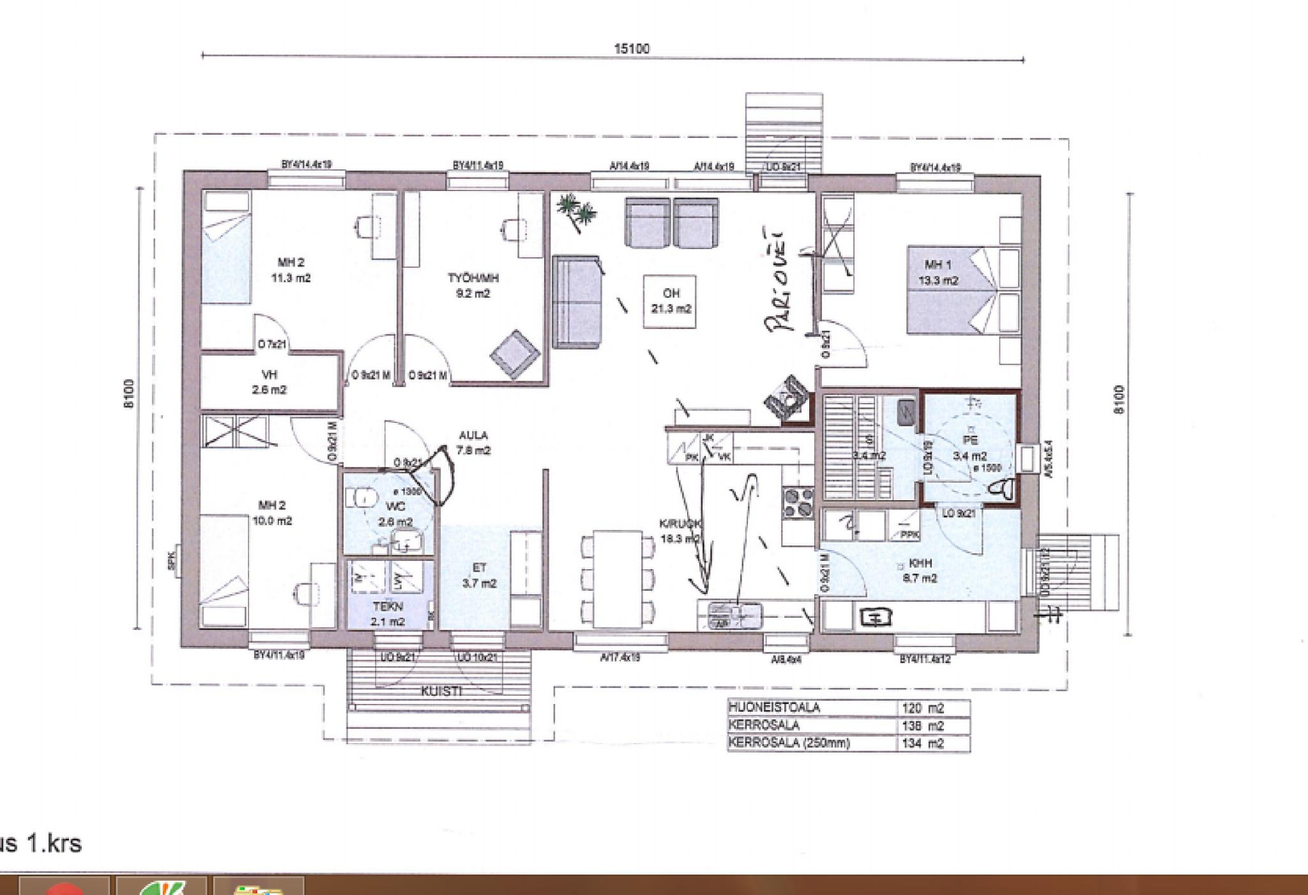door: (379, 419, 461, 505), (345, 333, 454, 388), (451, 628, 507, 702), (808, 548, 876, 599), (286, 413, 344, 469), (934, 501, 989, 560), (913, 433, 974, 486), (813, 322, 869, 375), (371, 633, 422, 688), (1019, 550, 1076, 598), (247, 311, 293, 354)
window: (592, 174, 750, 195), (572, 629, 668, 654), (266, 171, 344, 191), (889, 175, 976, 192), (896, 633, 951, 656), (246, 632, 309, 650), (757, 635, 806, 656), (445, 173, 507, 187), (760, 173, 803, 191)
zone: (551, 191, 813, 628), (556, 432, 812, 637), (343, 383, 546, 627), (205, 188, 395, 407), (824, 195, 1018, 388), (205, 416, 340, 624), (405, 191, 543, 383), (822, 506, 1017, 637), (347, 650, 528, 712), (920, 395, 1011, 500), (826, 402, 919, 499), (345, 473, 430, 557), (202, 360, 333, 411), (347, 563, 433, 624)
